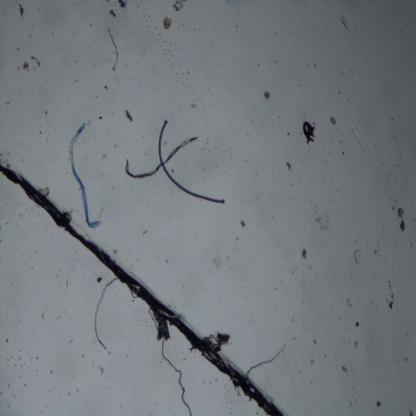Background material: (108, 29, 121, 72), (206, 332, 232, 349), (313, 210, 332, 232), (300, 120, 317, 144), (21, 56, 41, 73), (384, 280, 394, 311), (396, 206, 407, 233), (161, 14, 174, 32), (123, 108, 134, 124), (17, 0, 26, 19), (340, 15, 352, 29), (344, 294, 354, 310), (172, 1, 186, 12), (352, 250, 363, 264), (116, 0, 130, 8), (328, 115, 338, 126), (300, 247, 308, 260), (374, 245, 382, 258), (253, 57, 262, 68), (262, 90, 271, 100), (187, 99, 196, 109), (239, 217, 246, 229), (376, 399, 384, 409), (163, 44, 171, 54), (109, 9, 116, 18), (286, 162, 292, 172), (35, 128, 43, 135), (408, 406, 413, 416), (354, 320, 361, 327), (13, 43, 20, 50), (96, 114, 103, 121), (43, 108, 49, 116), (154, 24, 159, 32), (341, 69, 346, 77), (342, 365, 347, 373), (354, 342, 360, 348), (102, 86, 108, 92), (157, 32, 162, 39), (285, 130, 290, 136), (404, 356, 409, 362), (5, 100, 10, 105), (310, 359, 314, 365), (177, 24, 183, 28), (185, 70, 191, 74), (314, 338, 318, 344), (314, 63, 318, 68), (273, 60, 277, 64), (340, 152, 345, 155), (28, 32, 31, 37), (46, 78, 50, 81), (75, 79, 78, 83), (46, 139, 49, 142), (74, 59, 76, 63), (94, 95, 96, 99), (178, 47, 180, 50), (53, 32, 54, 36), (144, 15, 146, 17)
Cellulose filter fibre: (125, 133, 198, 179)
Cotton: (67, 121, 102, 229)
Edge of slide: (0, 163, 287, 415)
Microfibre: (158, 119, 225, 204)
